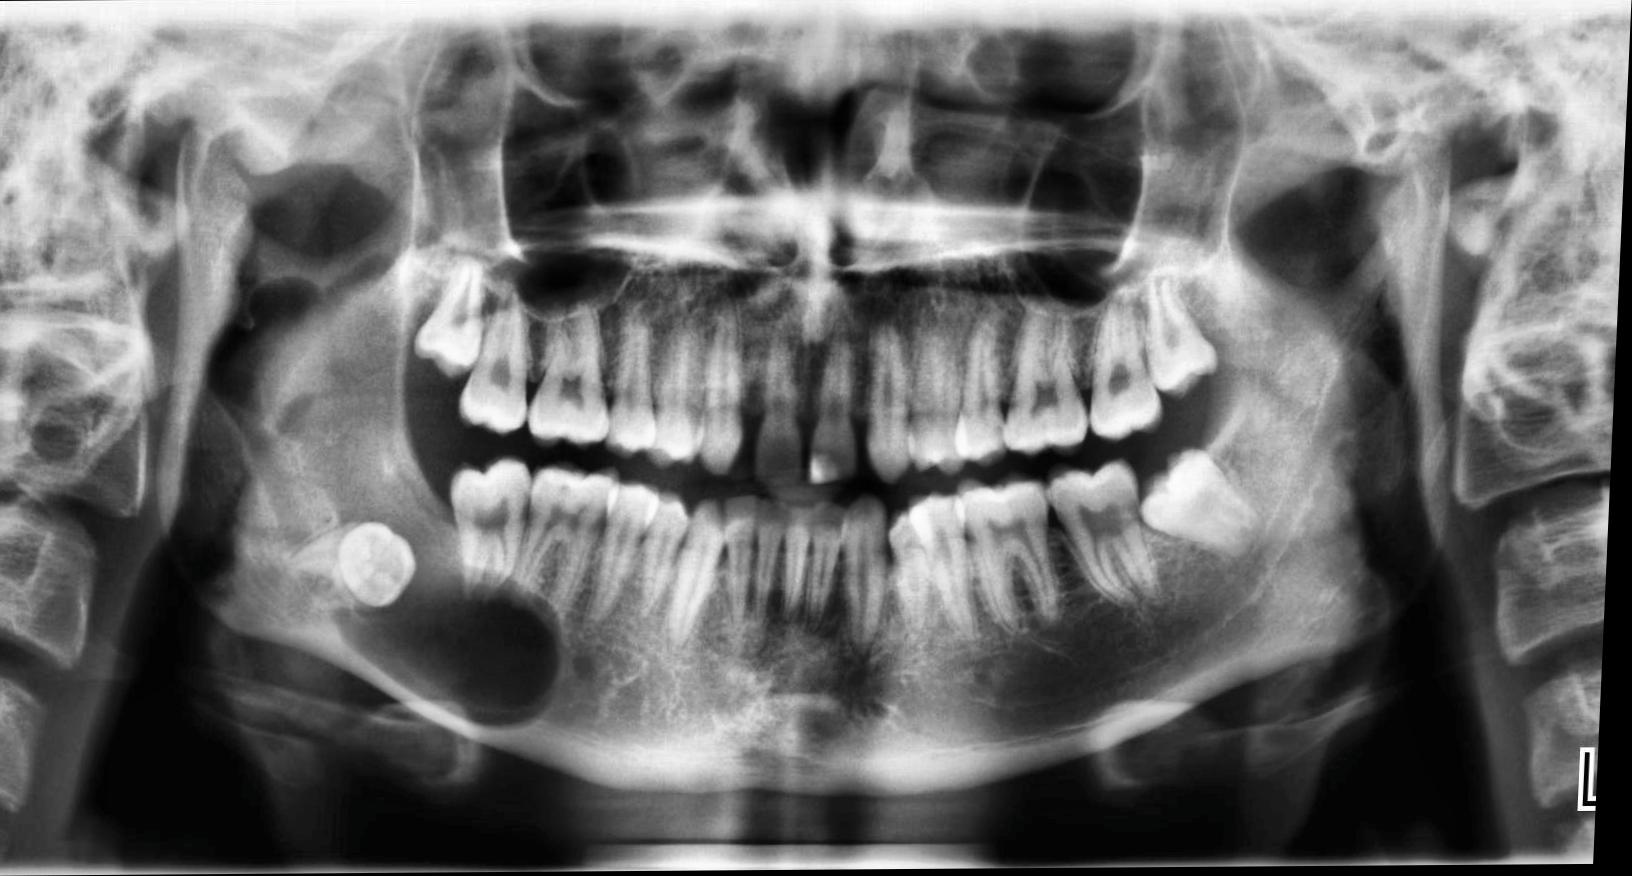okc: (194, 250, 587, 736)
